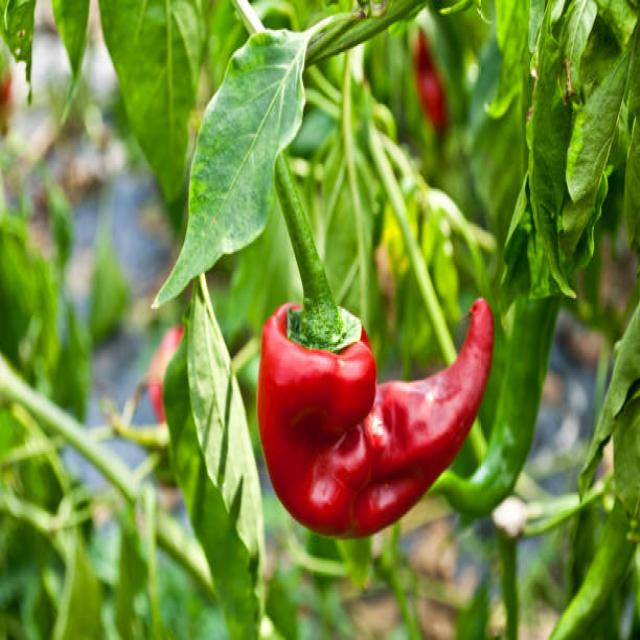Ripe: (256, 298, 493, 538)
